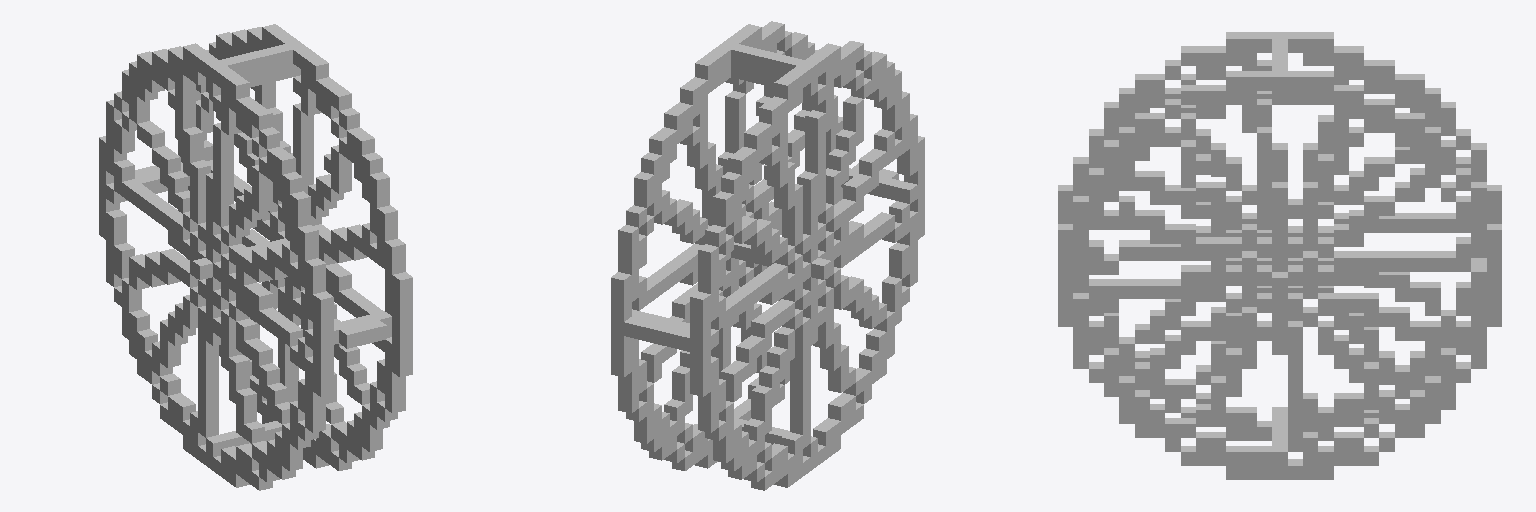
File: roda.obj
3 views of the same model, side by side, from view 1: azimuth 30°, elevation 25°; view 2: azimuth 150°, elevation 25°; view 3: azimuth 270°, elevation 25° (orthographic).
Parts seen in each view (by area): view 1: Cylinder.008; view 2: Cylinder.008; view 3: Cylinder.008.
Boxes of the visible parts, x1=… form: Cylinder.008: x1=99, y1=24, x2=412, y2=490; Cylinder.008: x1=611, y1=21, x2=924, y2=490; Cylinder.008: x1=1058, y1=32, x2=1501, y2=479.
Bounding box in the file's own units: 6.02 × 19.39 × 19.39.